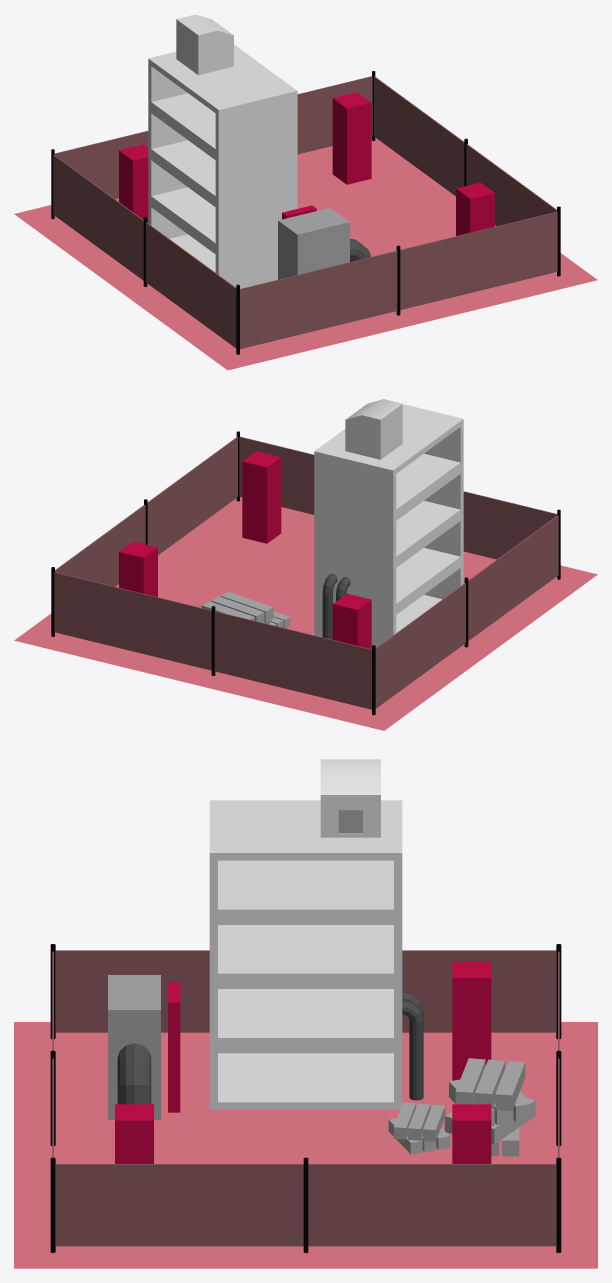
The model's file is 22_pink.fbx.
The picture shows the model from 3 angles, top to bottom: view 1: azimuth 30°, elevation 25°; view 2: azimuth 150°, elevation 25°; view 3: azimuth 270°, elevation 25°; orthographic projection. The views are drawn at different scales.
Visible parts, largest first — view 1: pCube229, two_two1, pCube227, pCube228, pCube222, pCube217, pCube225, pCube233, pCube239, pCube226, pCube224, pCube241 (+3 smaller); view 2: pCube229, two_two1, pCube223, pCube224, pCube217, pCube222, pCube226, pCube228, pCube238, pCube225, pCube241, pCube227 (+5 smaller); view 3: two_two1, pCube229, pCube225, pCube226, pCube222, pCube217, pCube233, pCube241, pCube240, pCube239, pCube238, pCylinder44 (+5 smaller).
Boxes of the visible parts, <box> form: pCube229: <box>148,44,297,288</box>; two_two1: <box>14,136,597,370</box>; pCube227: <box>400,211,557,309</box>; pCube228: <box>240,250,397,349</box>; pCube222: <box>53,154,143,280</box>; pCube217: <box>146,222,236,348</box>; pCube225: <box>374,76,464,195</box>; pCube233: <box>278,208,349,279</box>; pCube239: <box>332,92,371,184</box>; pCube226: <box>466,144,556,226</box>; pCube224: <box>297,76,372,154</box>; pCube241: <box>176,14,233,75</box>; pCube229: <box>314,404,463,648</box>; two_two1: <box>14,497,597,730</box>; pCube223: <box>214,611,371,709</box>; pCube224: <box>54,572,211,670</box>; pCube217: <box>468,515,558,640</box>; pCube222: <box>375,583,465,708</box>; pCube226: <box>147,437,237,554</box>; pCube228: <box>463,491,557,559</box>; pCube238: <box>242,451,281,543</box>; pCube225: <box>55,505,145,586</box>; pCube241: <box>345,399,402,459</box>; pCube227: <box>239,436,314,514</box>; two_two1: <box>14,1022,597,1268</box>; pCube229: <box>209,800,402,1109</box>; pCube225: <box>308,1164,556,1246</box>; pCube226: <box>55,1164,303,1246</box>; pCube222: <box>402,950,556,1032</box>; pCube217: <box>55,950,209,1032</box>; pCube233: <box>108,975,160,1119</box>; pCube241: <box>320,759,380,837</box>; pCube240: <box>452,961,491,1080</box>; pCube239: <box>452,1104,491,1163</box>; pCube238: <box>115,1104,153,1163</box>; pCylinder44: <box>117,1043,151,1104</box>.
Bounding box in the file's own units: 2 × 1.2 × 2.
